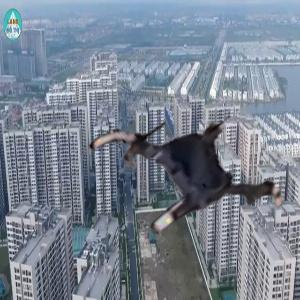drone: (93, 75, 289, 271)
